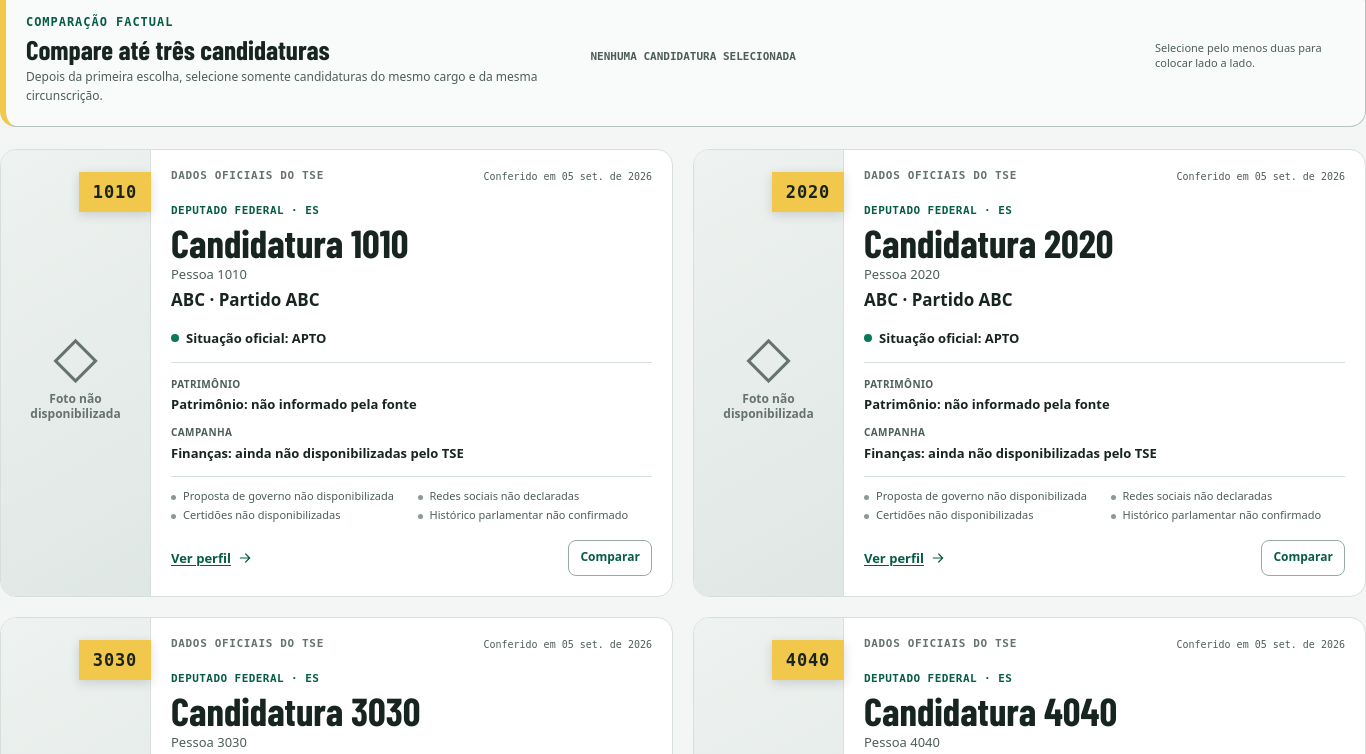
Test: candidate comparison selection › enforces the three-candidate limit in the picker without hiding compatible choices
Click the button "Comparar" below "Candidatura 1010": (610,558) [568, 540, 652, 576]
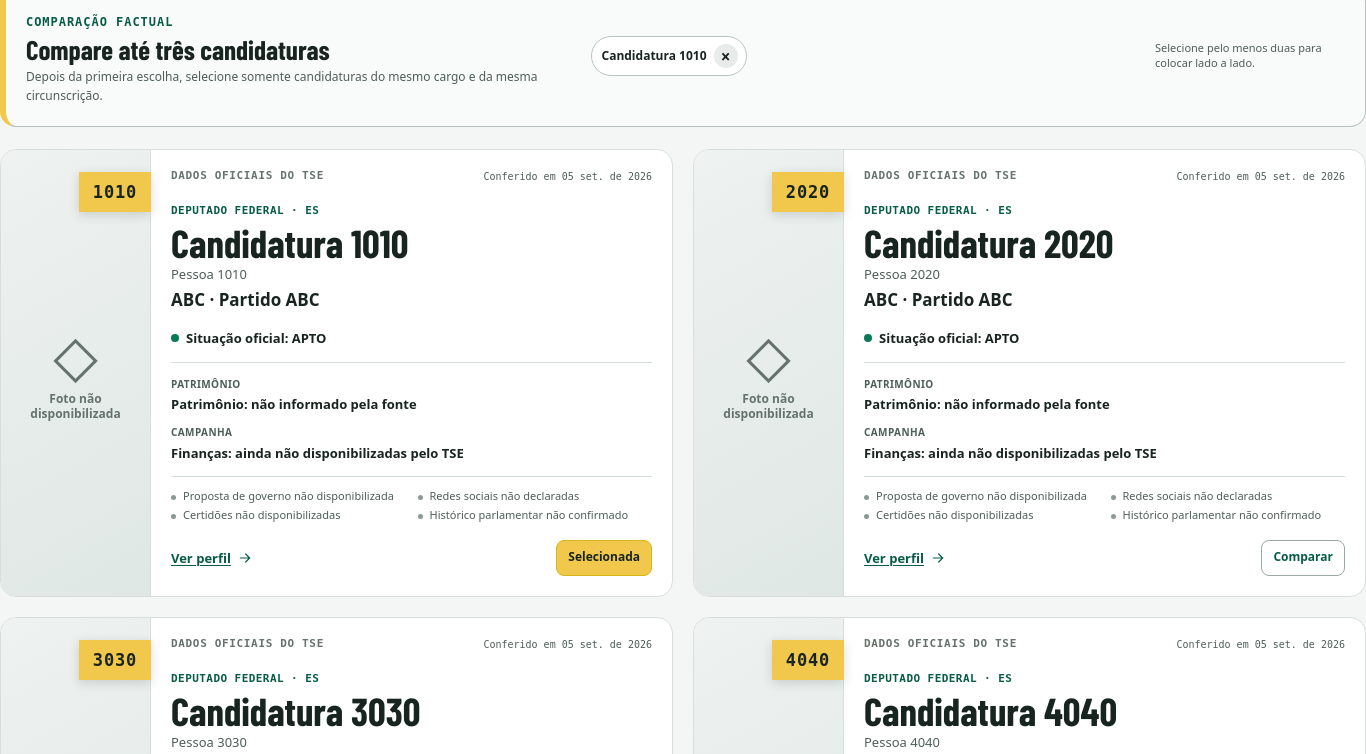
Click the button "Comparar": (1303,558) [1261, 540, 1345, 576]
(page scrolled)
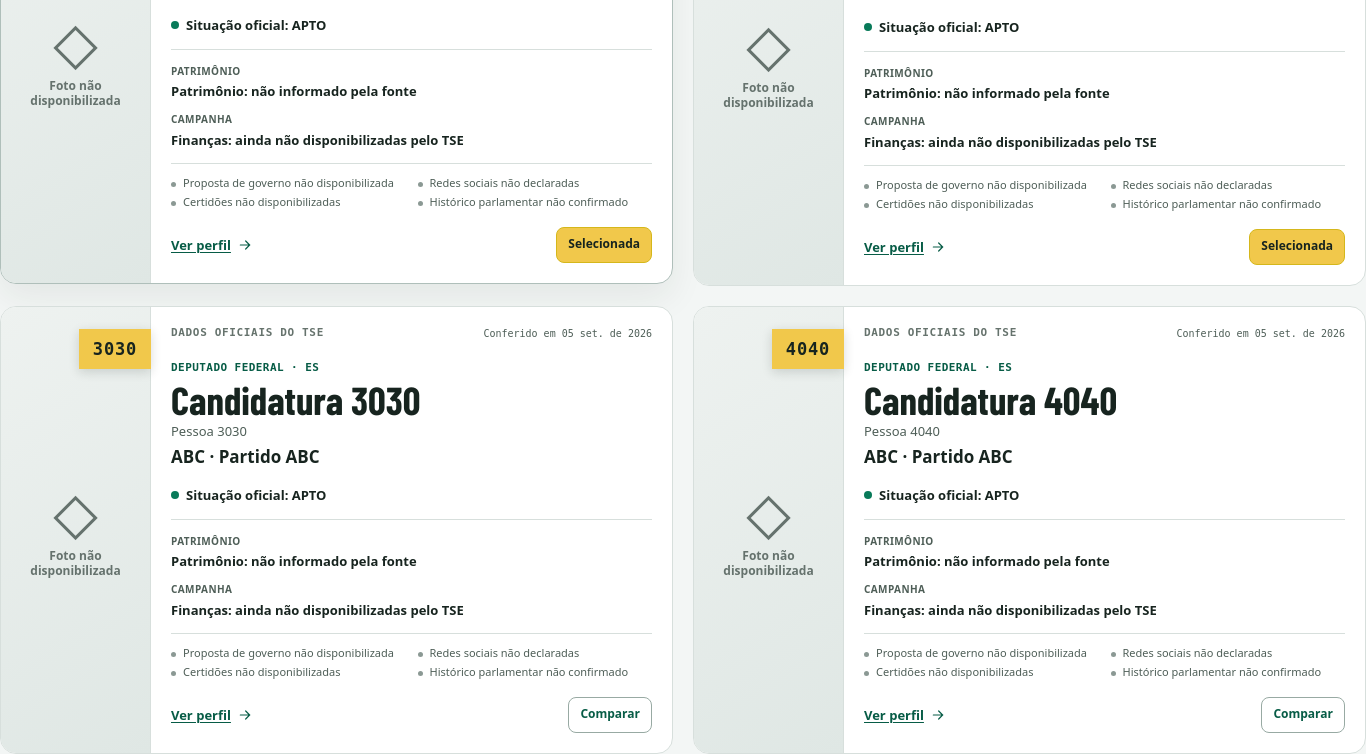
Click the button "Comparar" below "Candidatura 3030": (610,715) [568, 697, 652, 733]
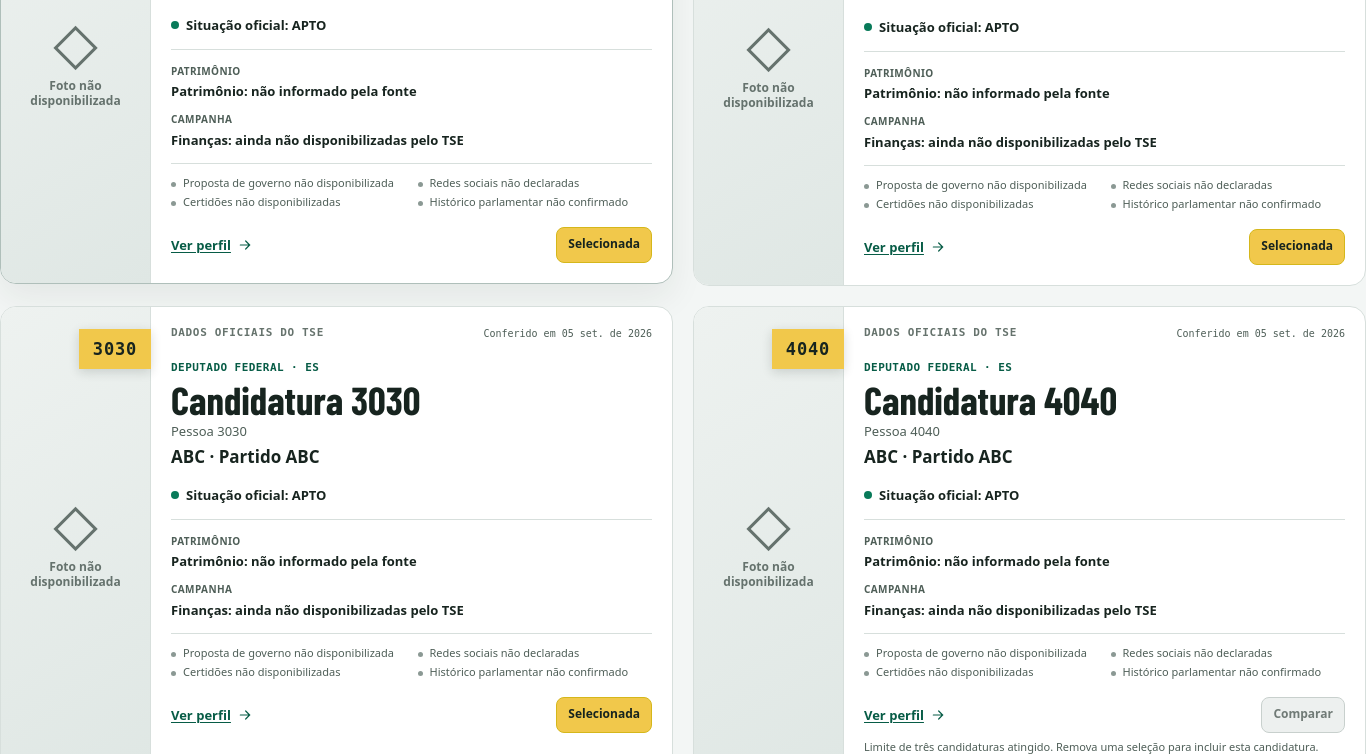
Expected: the link "Candidatura 4040" is shown, [864, 376, 1117, 423]
Result: the button with aria-label "Adicionar Candidatura 4040 à comparação" is disabled at [1261, 697, 1345, 733]
